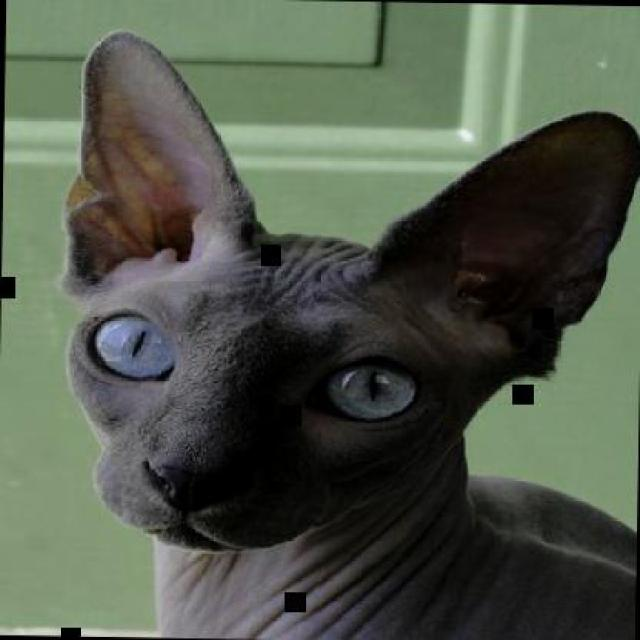cat: (49, 27, 638, 638)
